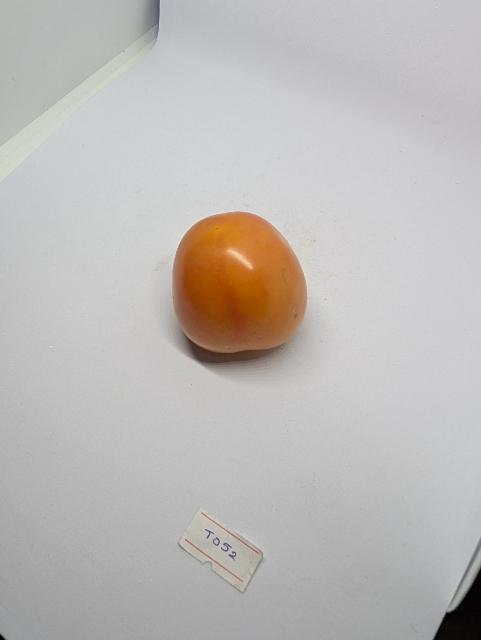turning: (156, 199, 332, 378)
